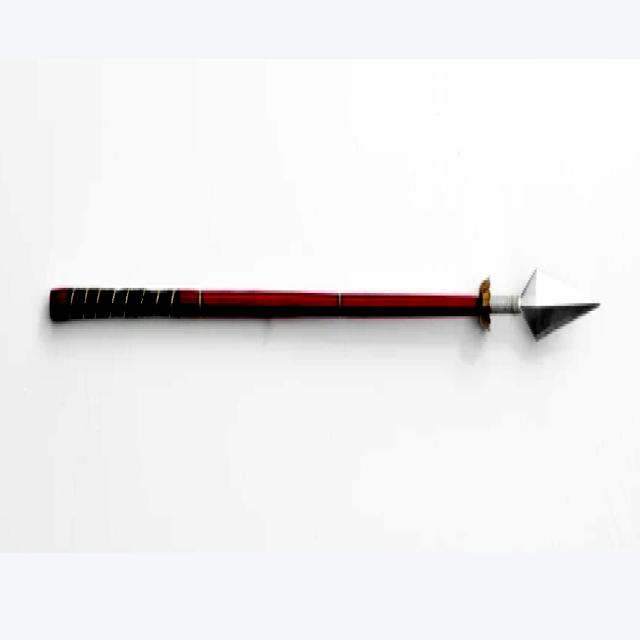spear: (43, 238, 606, 358)
